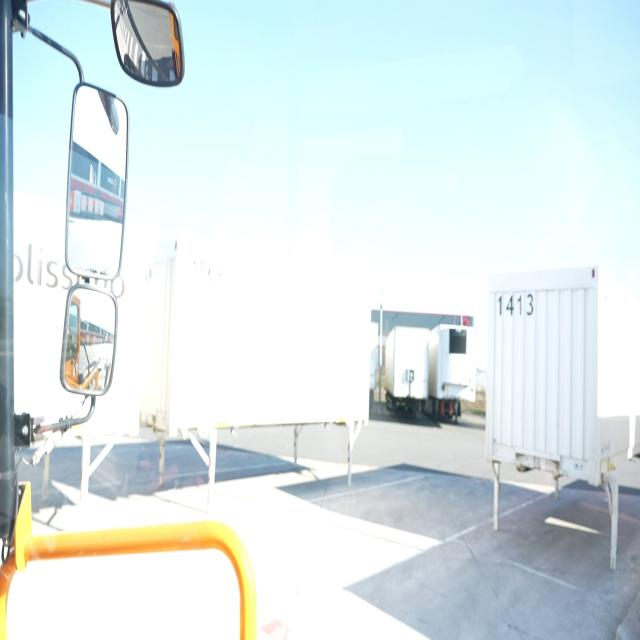Code: (493, 282, 542, 326)
